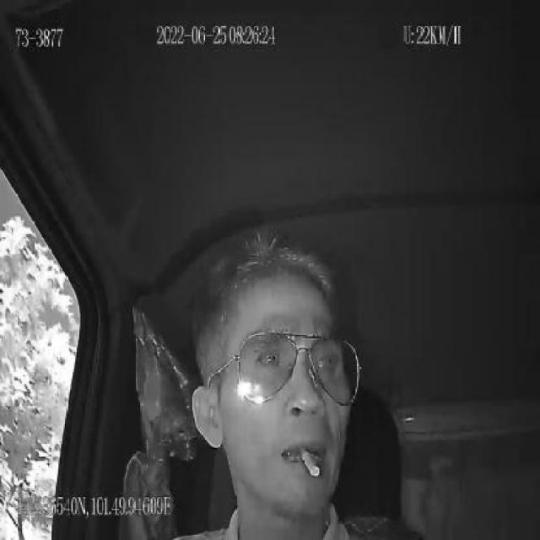smoking: (298, 445, 321, 481)
